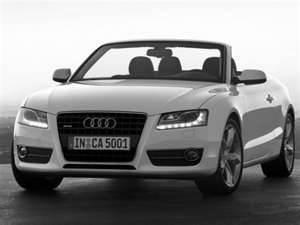car: (11, 39, 296, 200)
